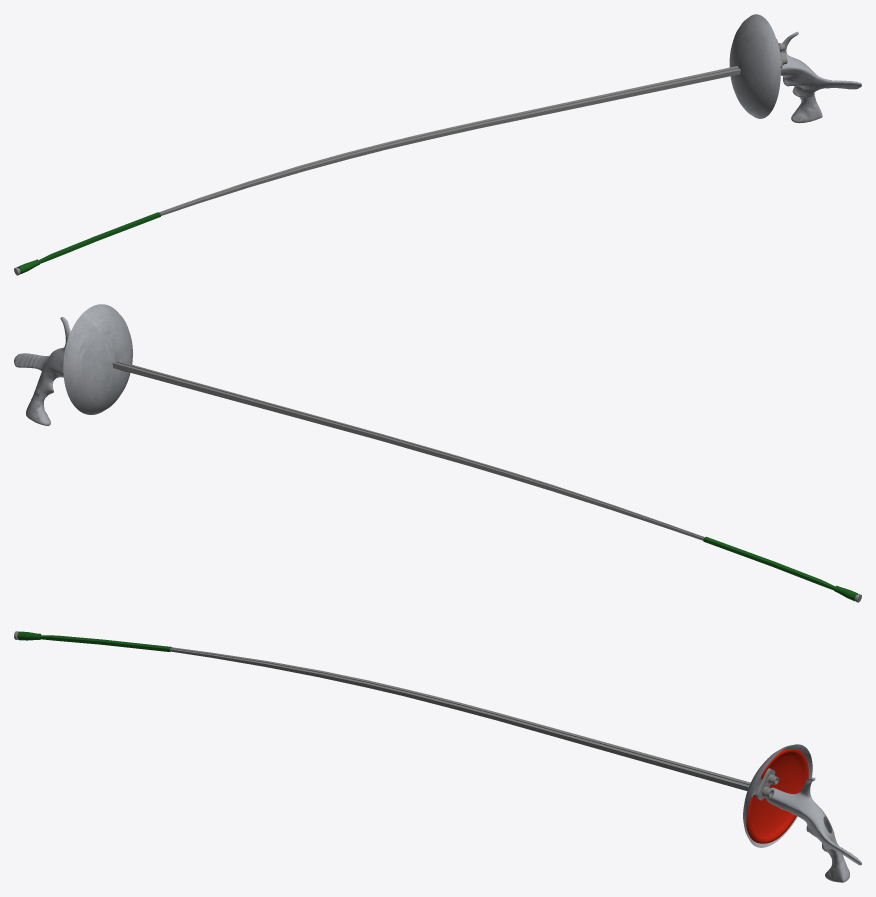
File: foil.glb
3 renders of one model, top to bottom at view 1: azimuth 30°, elevation 25°; view 2: azimuth 150°, elevation 25°; view 3: azimuth 330°, elevation 25°, orthographic. The views are drawn at different scales.
Visible parts, largest first — view 1: 立方体.006, 球.002, Object_2.002, 立方体.001; view 2: 球.002, 立方体.006, Object_2.002, 立方体.001; view 3: 立方体.006, 球.003, Object_2.002, 球.002, 立方体.001.
Part boxes in pixels (box(x1,y1,x2,y2)): 立方体.006: box(159, 66, 740, 215); 球.002: box(729, 14, 780, 118); Object_2.002: box(780, 31, 861, 123); 立方体.001: box(38, 212, 160, 263); 球.002: box(63, 304, 132, 414); 立方体.006: box(112, 361, 704, 540); Object_2.002: box(14, 317, 70, 425); 立方体.001: box(703, 536, 835, 590); 立方体.006: box(170, 647, 750, 790); 球.003: box(746, 749, 808, 843); Object_2.002: box(766, 777, 861, 882); 球.002: box(743, 744, 812, 847); 立方体.001: box(39, 635, 171, 651).
Bounding box in the file's own units: 18.19 × 2.45 × 2.
Materials: 8 (4 with a texture image).
